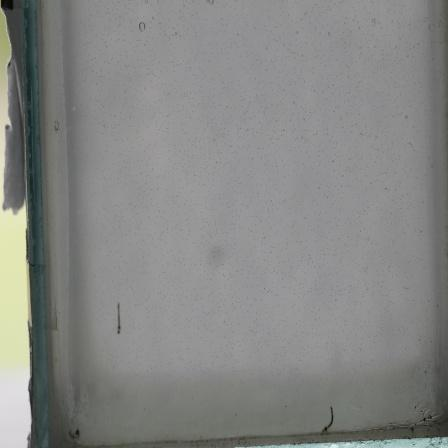Jentik-Nyamuk: (318, 400, 339, 436), (112, 301, 125, 337)
